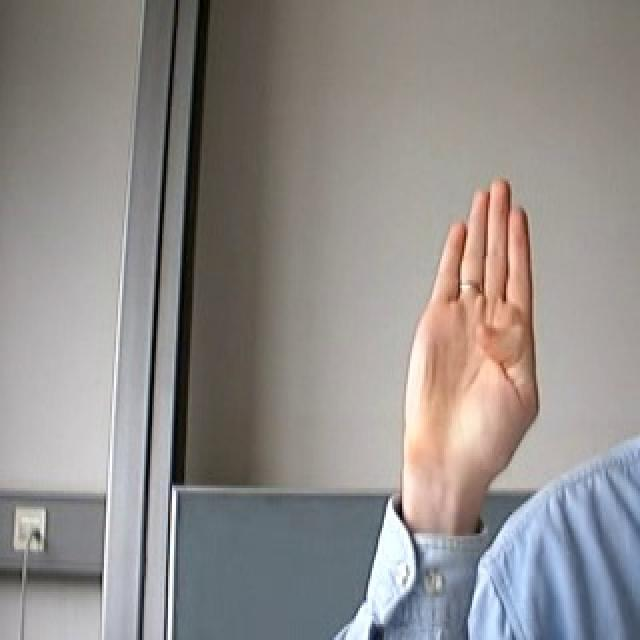B: (399, 161, 543, 499)
